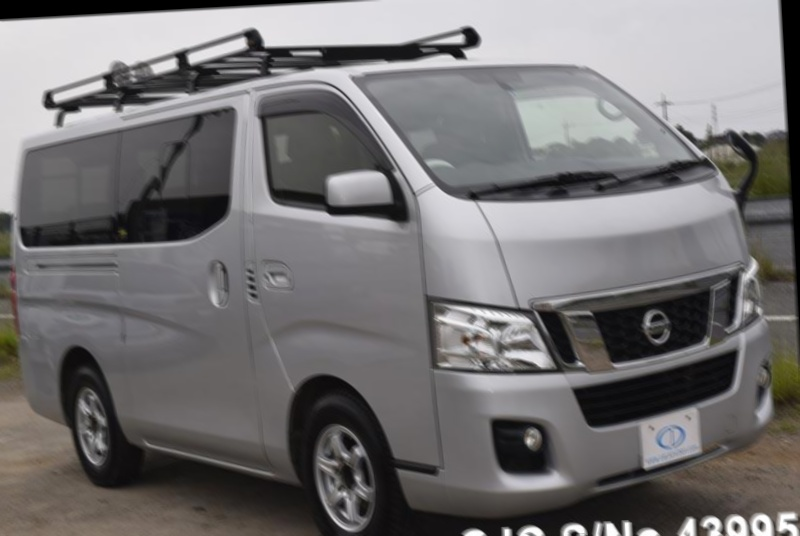van: (8, 44, 787, 536)
